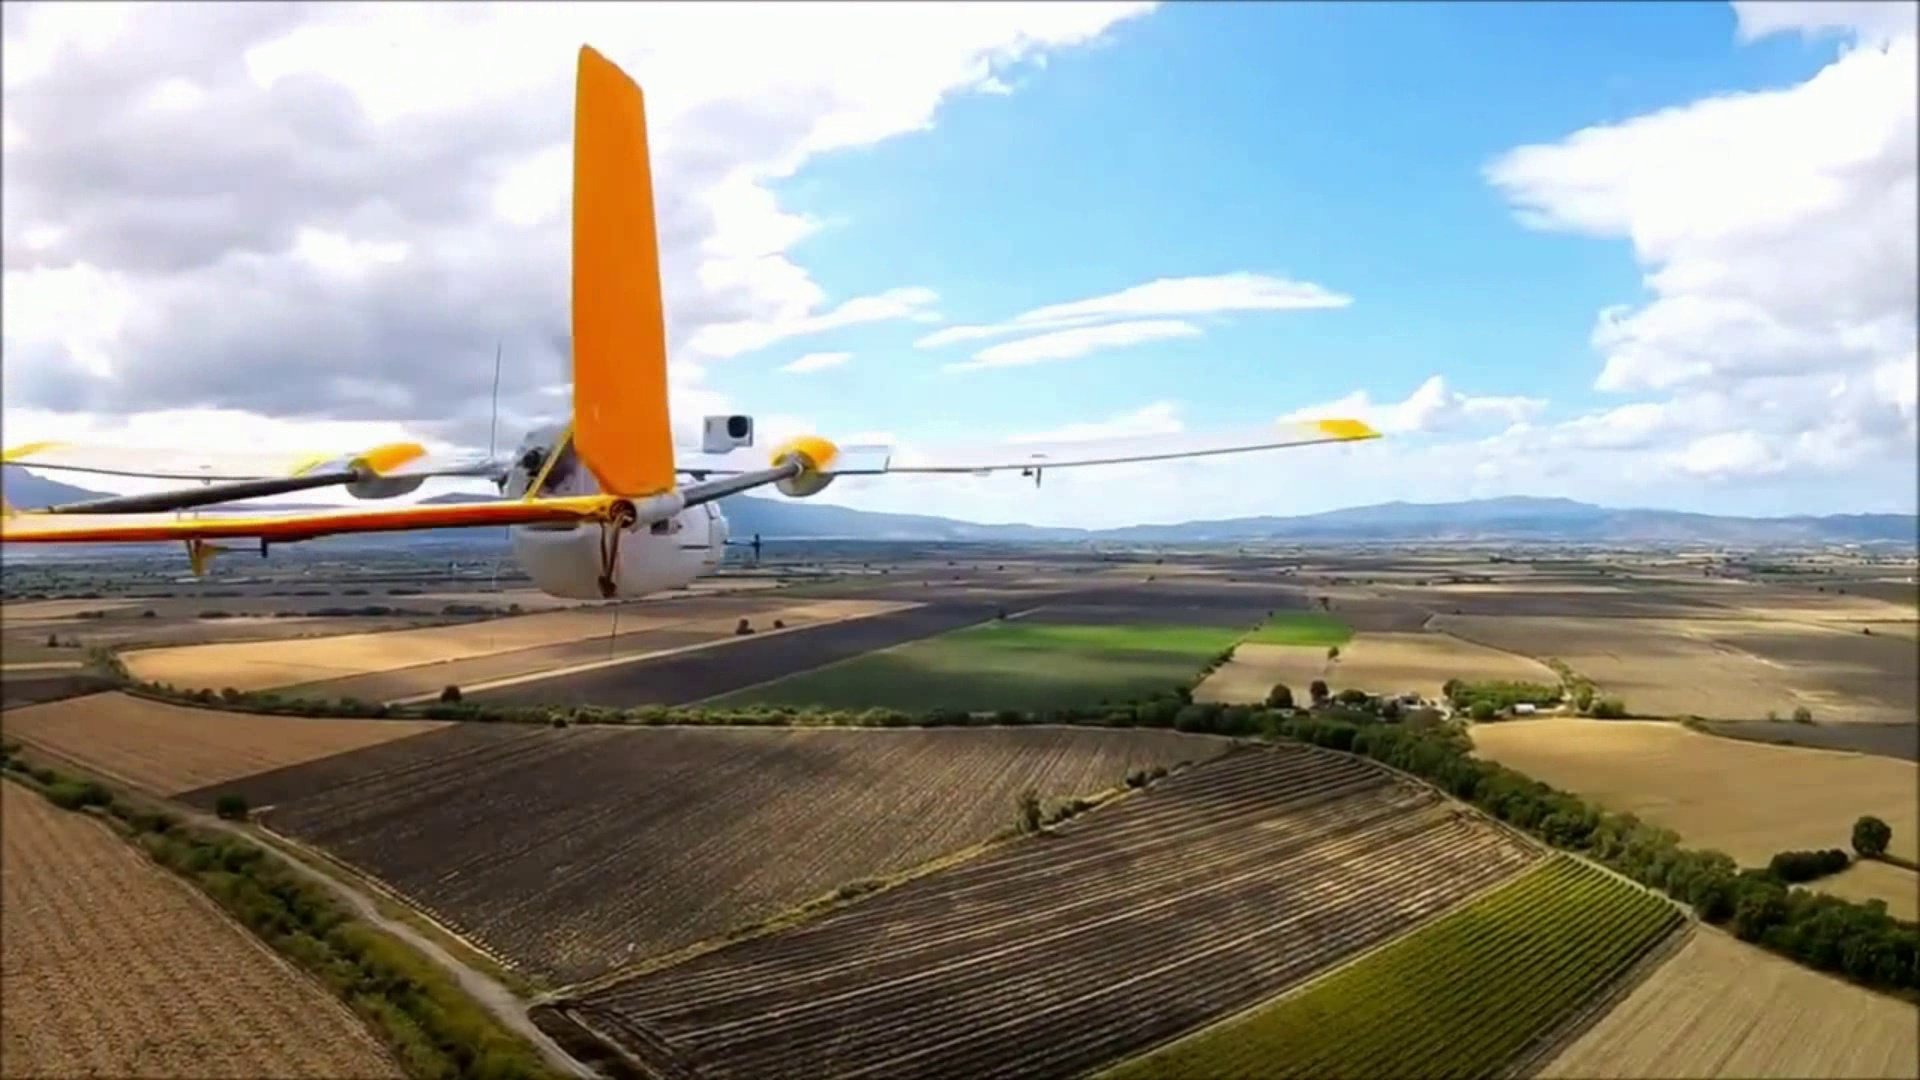airplane: (7, 40, 885, 597)
